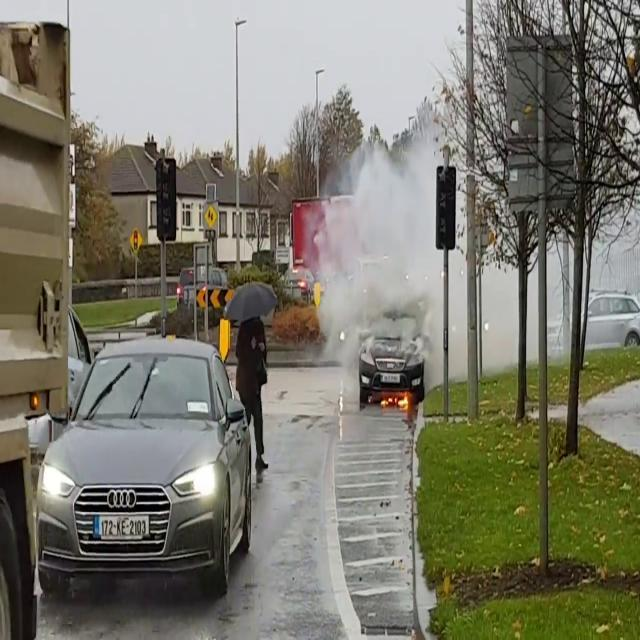Fire: (380, 382, 412, 414)
Smoke: (312, 111, 450, 372)
